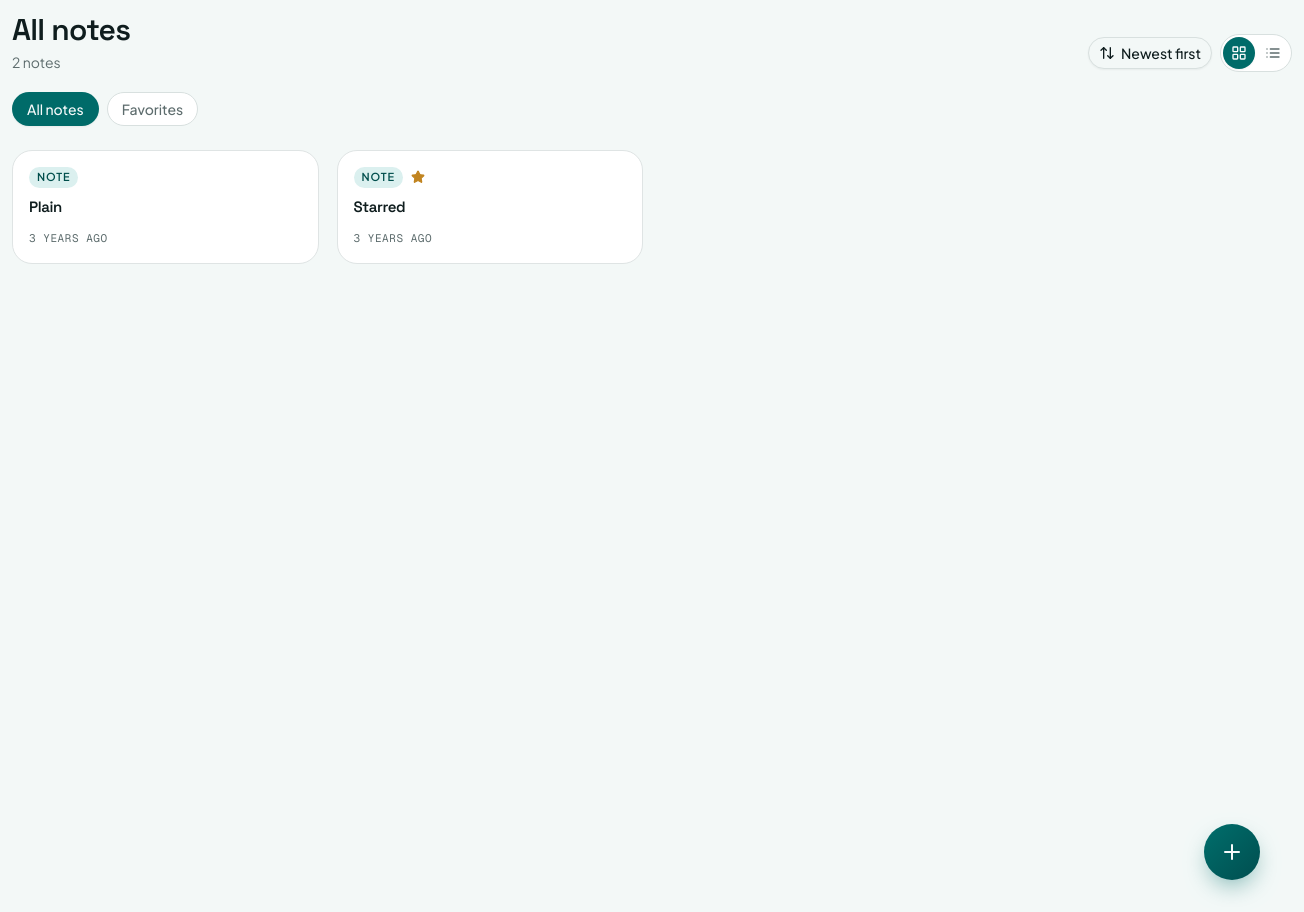
Test case: HomePage › filters to favorites when the Favorites chip is selected
Check: the heading "Plain" is shown, box [29,196,62,216]
What coordinates should you click on to do the following:
click the tab "Favorites"
I would click on:
 (152, 109)
Its box is [107,92,198,126].
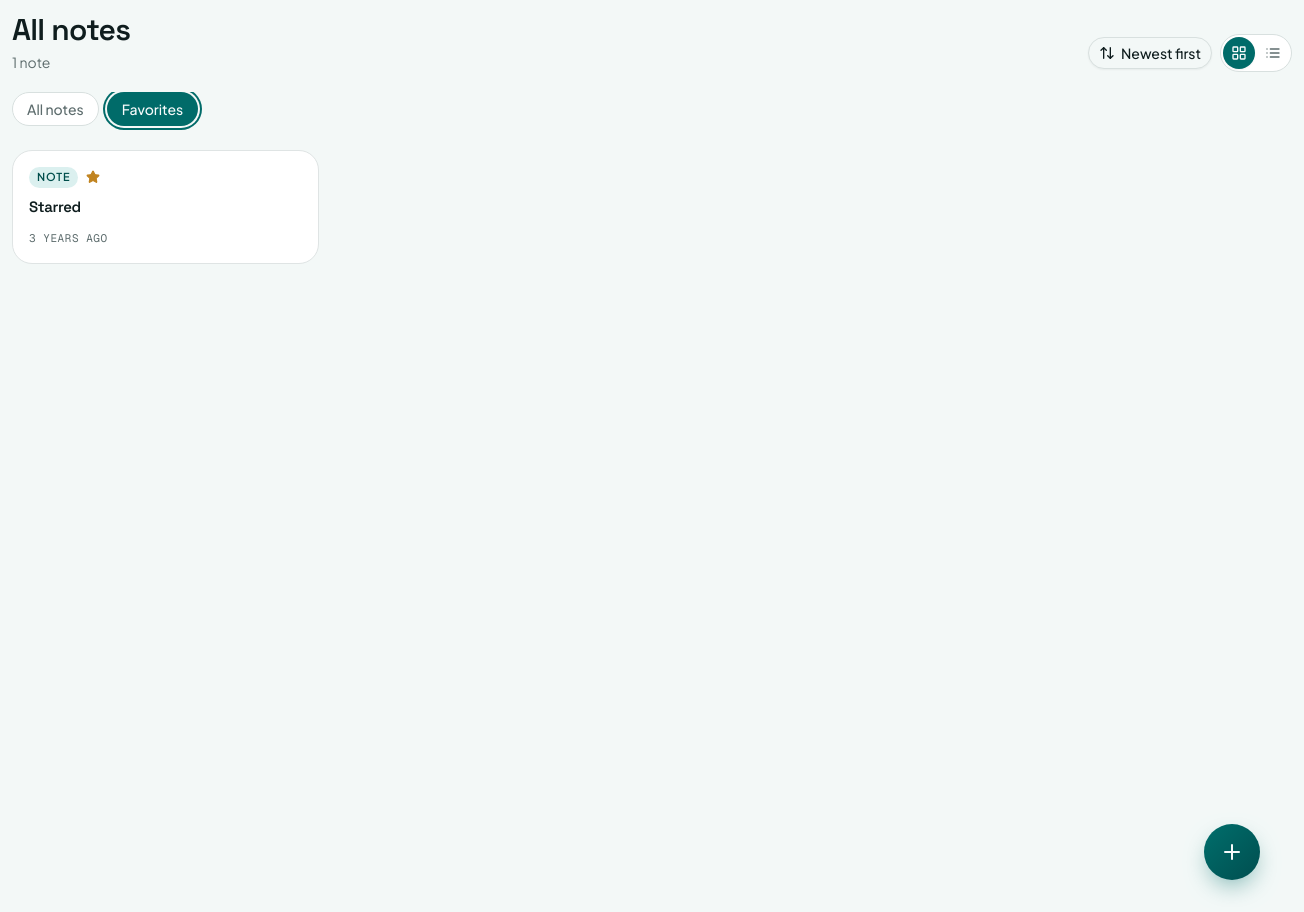
Check: the heading "Starred" is shown, box [29,196,81,216]
Check: the link "Plain" is gone
